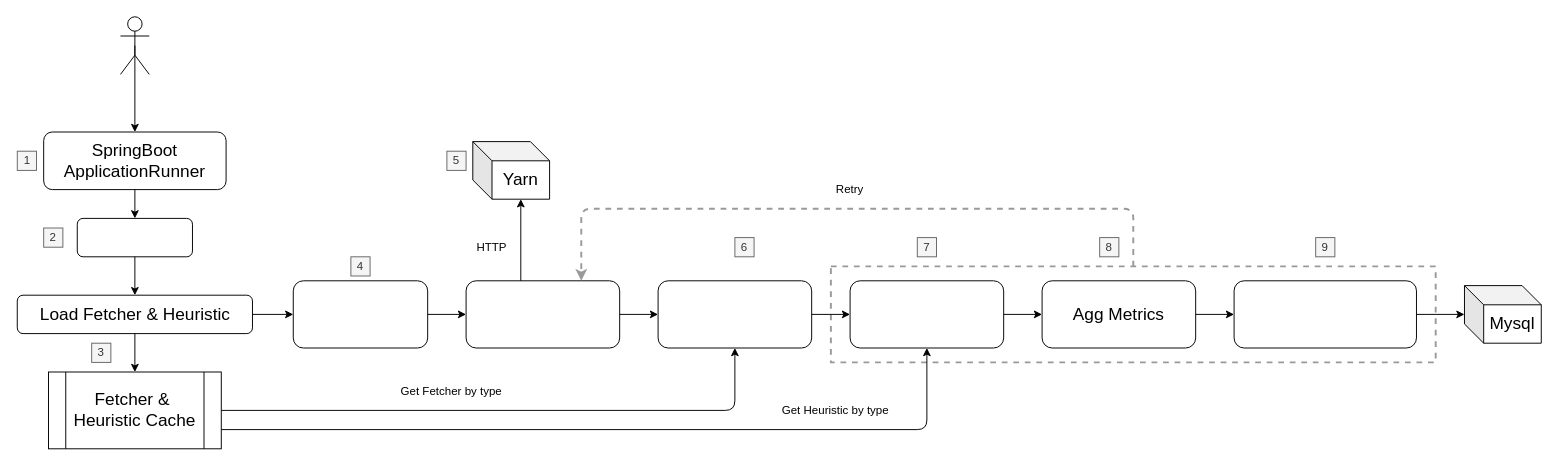
Image size: 1558x466. Some labels were removed from this diagram. The centre of each missing label's shape, as x and y in pixels:
"Apply Heuristic" belongs at (x=926, y=314).
"Build & Save result" belongs at (x=1324, y=314).
"Cron Scheduler" belongs at (x=360, y=314).
"Fetcher Data" belongs at (x=734, y=314).
"Get App List Info" belongs at (x=542, y=314).
"InitContext" belongs at (x=134, y=237).
